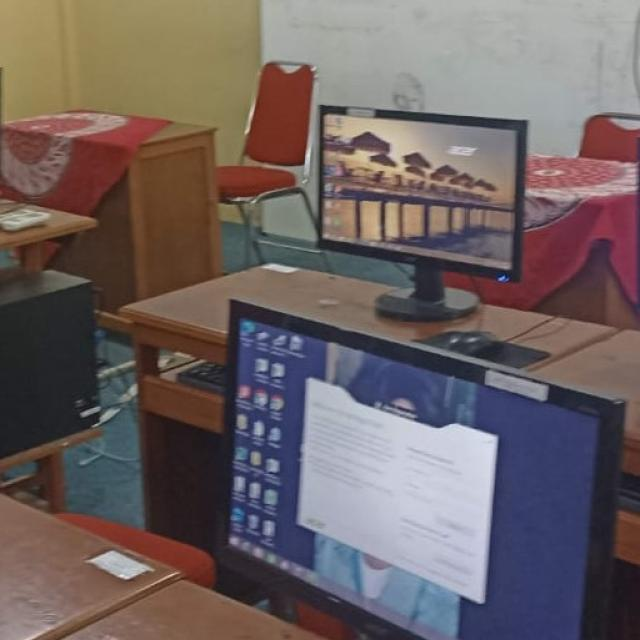onscreen: (227, 302, 622, 640), (322, 107, 525, 269)
